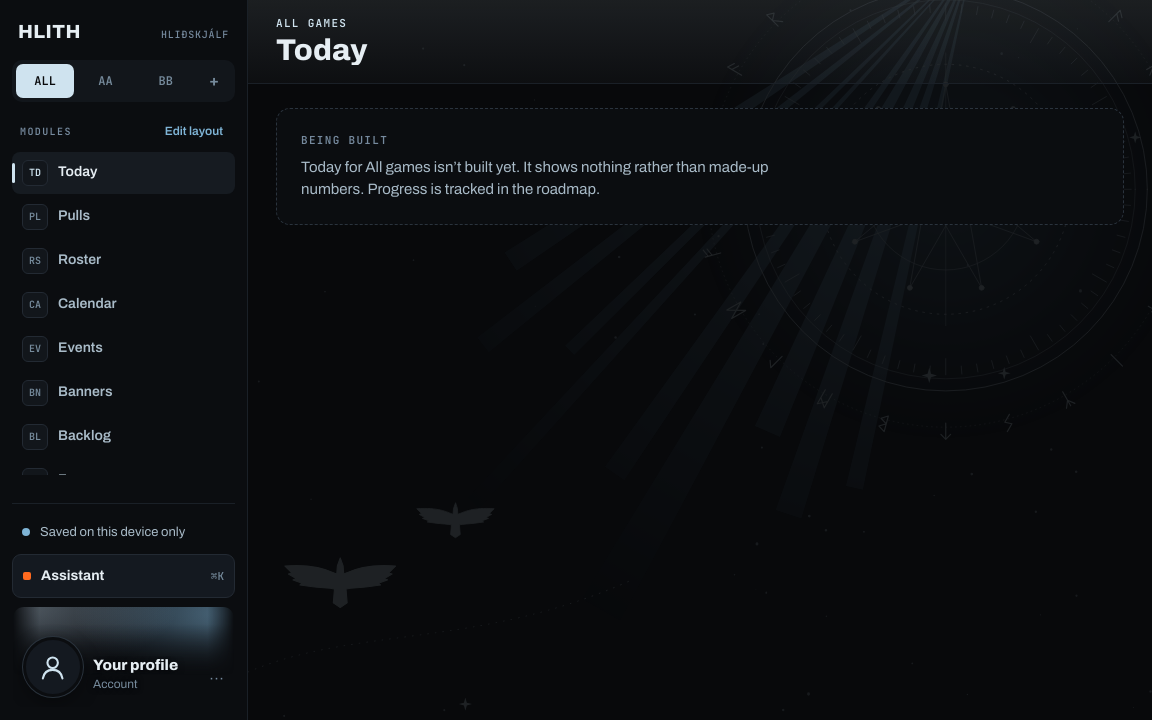
Test: Edit layout › says there is one order for every game, and All games names its hidden list honestly
What coordinates should you click on to do the following:
click the button "Edit layout"
I would click on:
 (194, 132)
Its box is [157,118,231,146].
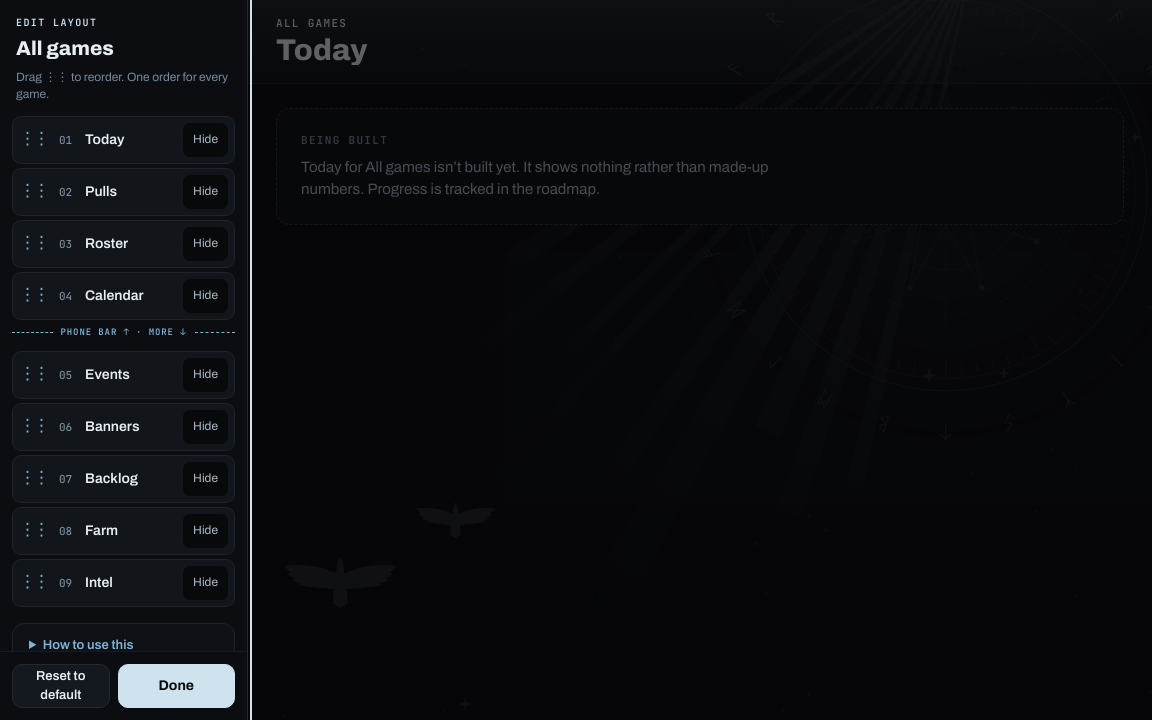
Check: the text "Drag ⋮⋮ to reorder. One order for every game." is shown, box [16,69,231,104]
What coordinates should you click on to do the following:
click the button with aria-label "Hide Intel"
I would click on:
 (206, 583)
Its box is [183,566,228,600].
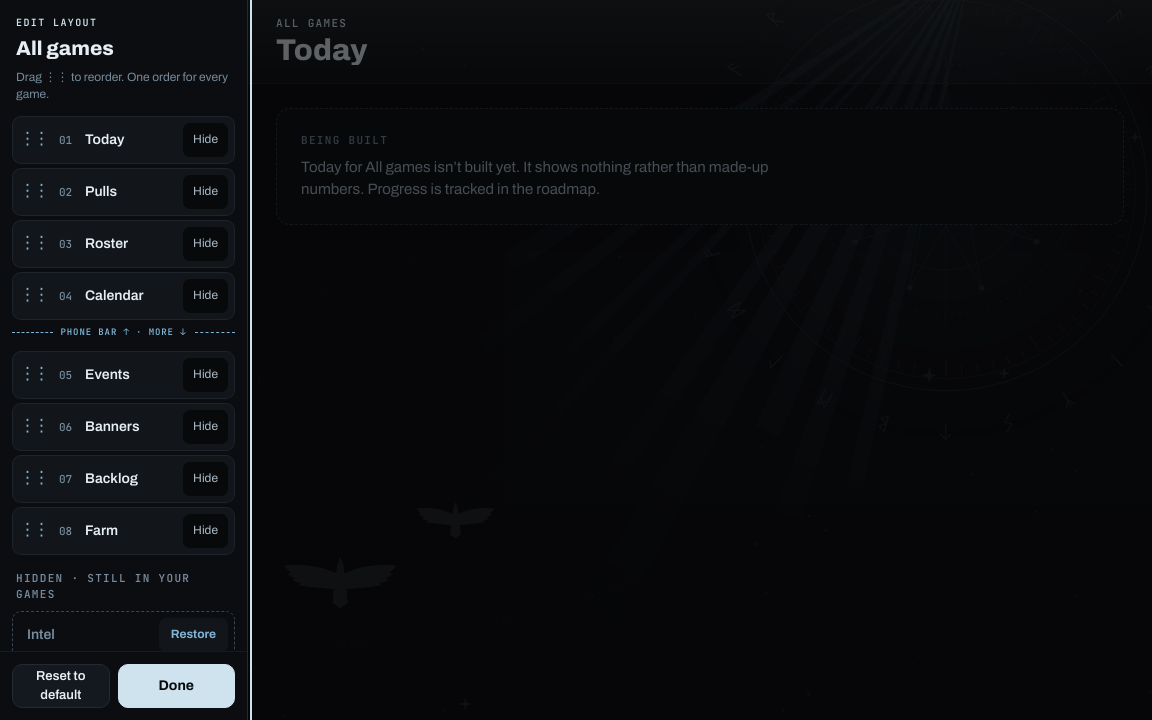
Check: the text "HIDDEN · STILL IN YOUR GAMES" is shown, box [16,571,190,601]
